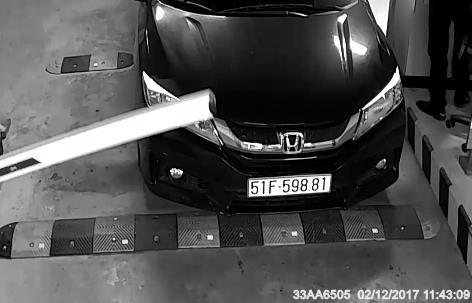License-plate: (242, 170, 338, 203)
